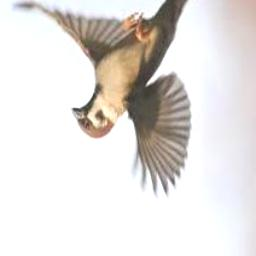Sparrow: (11, 0, 208, 200)
